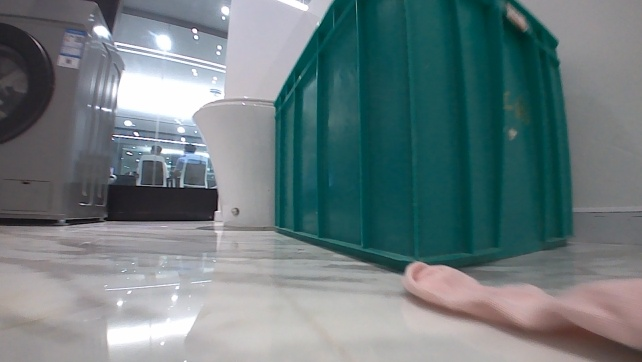socks: (399, 256, 641, 354)
toilet: (190, 95, 280, 230)
washing_machine: (0, 0, 126, 227)
